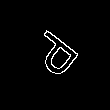P_SE: (24, 25, 86, 85)
